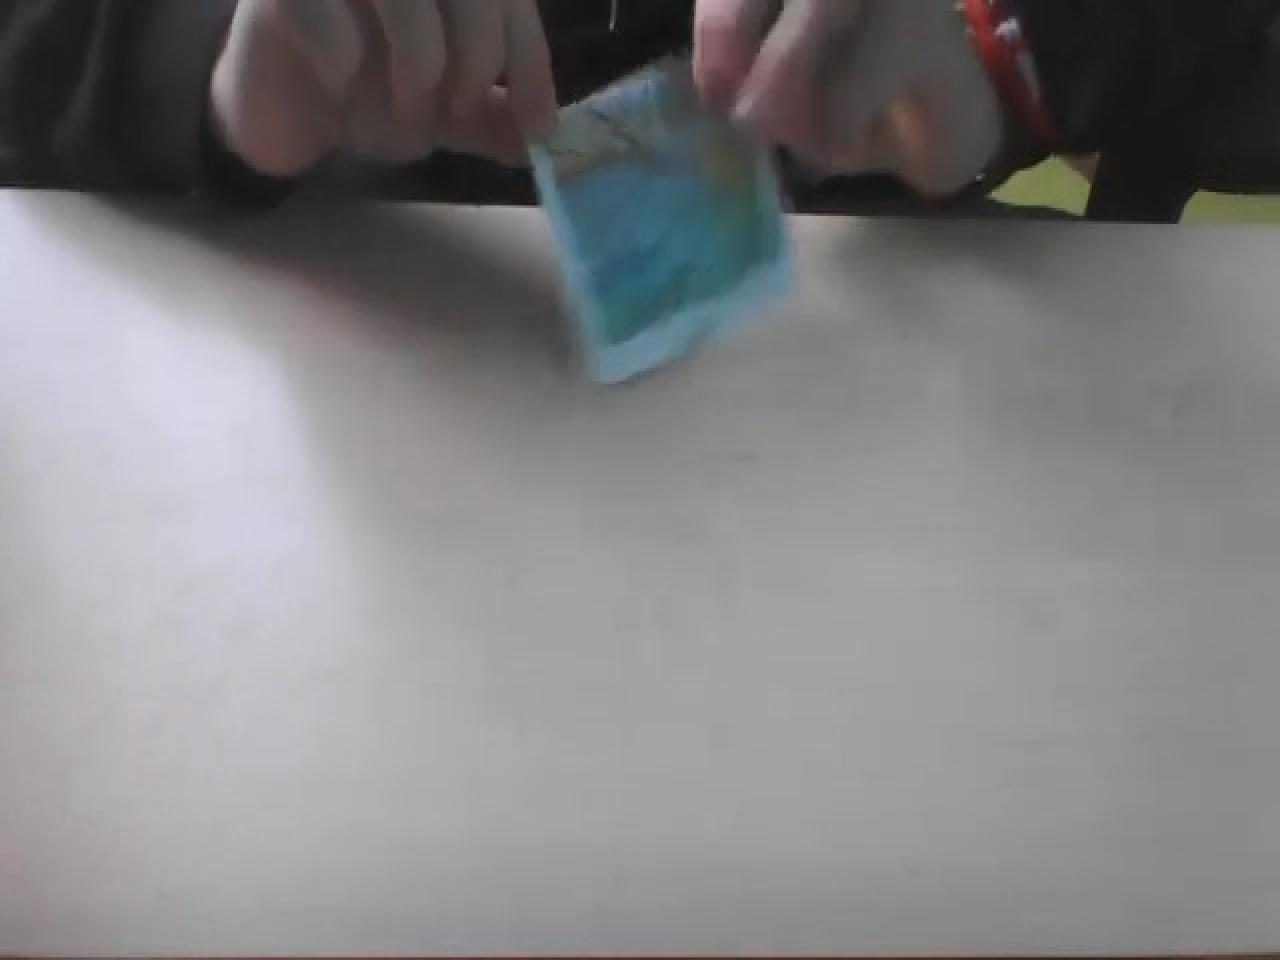100leva: (526, 56, 792, 389)
